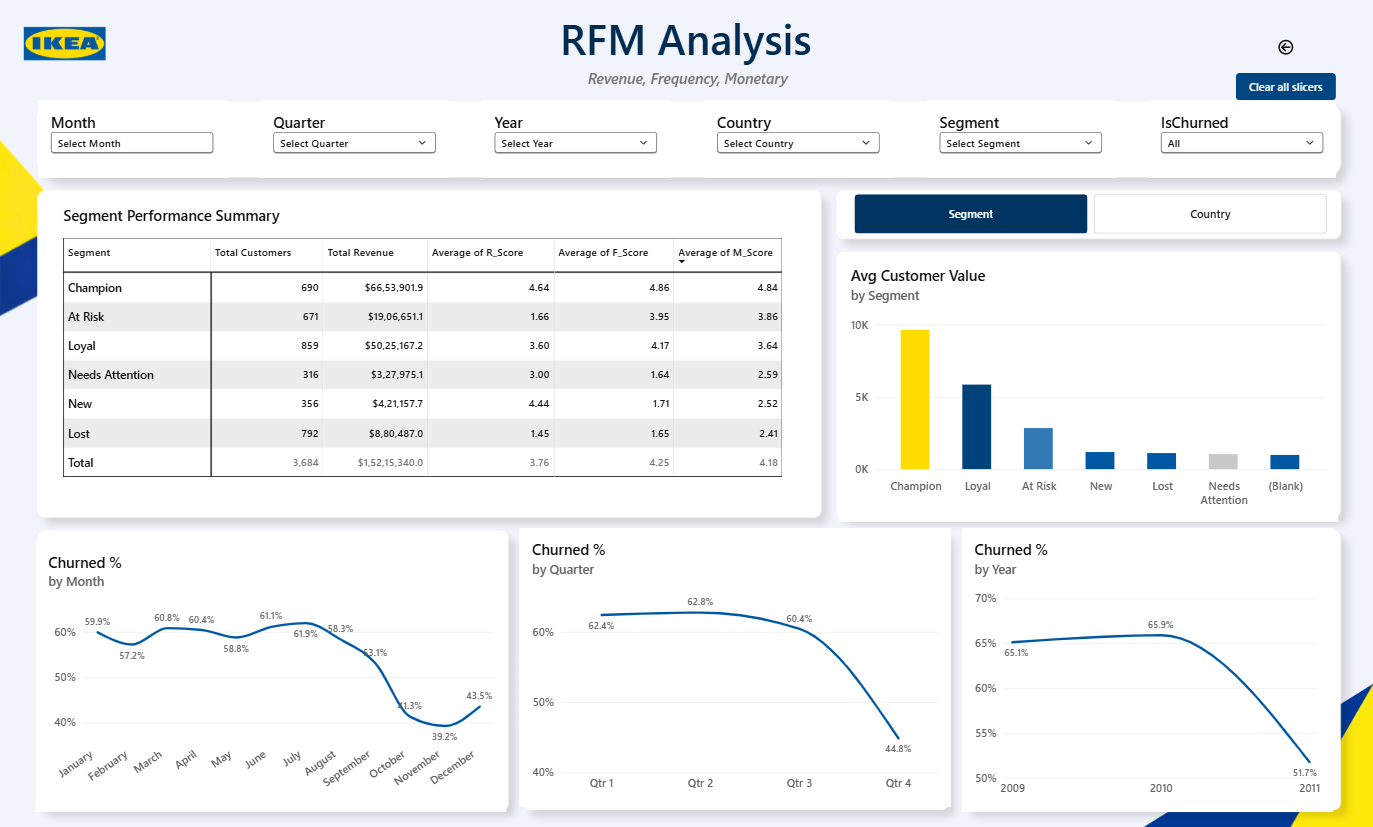

What the dashboard file says about the page in this screenshot:
{"tool":"powerbi","page":{"name":"RFM Analysis","canvas":[1750,1100],"ordinal":2},"visuals":[{"type":"listSlicer","fields":{"Values":["Sheet1.InvoiceDate.Variation.Date Hierarchy.Month"]},"box":[52.2,136.6,238.1,98.1],"z":0},{"type":"lineChart","fields":{"Category":["Sheet1.InvoiceMonth.Variation.Date Hierarchy.Month"],"Y":["Sheet1.Churned %"]},"box":[50,695,597.5,345],"z":0,"group":"g1"},{"type":"listSlicer","fields":{"Values":["Sheet1.InvoiceDate.Variation.Date Hierarchy.Quarter"]},"box":[334.4,136.6,238.1,98.1],"z":1000},{"type":"lineChart","fields":{"Category":["Sheet1.InvoiceMonth.Variation.Date Hierarchy.Quarter"],"Y":["Sheet1.Churned %"]},"box":[663.9,680.4,547.7,354.4],"z":1000,"group":"g1"},{"type":"listSlicer","fields":{"Values":["Sheet1.InvoiceDate.Variation.Date Hierarchy.Year"]},"box":[616.6,136.6,238.1,98.1],"z":2000},{"type":"columnChart","fields":{"Category":["Sheet1.Segment"],"Y":["Sheet1.Avg Customer Value"]},"box":[1070,332.5,635.4,340],"z":2000,"group":"g1"},{"type":"listSlicer","fields":{"Values":["Sheet1.Country"]},"box":[898.8,136.6,238.1,98.1],"z":3000},{"type":"lineChart","fields":{"Category":["Sheet1.InvoiceMonth.Variation.Date Hierarchy.Year"],"Y":["Sheet1.Churned %"]},"box":[1226.8,680.4,471.4,361.2],"z":3000,"group":"g1"},{"type":"listSlicer","fields":{"Values":["Sheet1.Segment"]},"box":[1180.9,136.6,238.1,98.1],"z":4000},{"type":"pivotTable","title":"Segment Performance Summary","fields":{"Rows":["Sheet1.Segment"],"Values":["Sheet1.Total Customers","Sheet1.Total Revenue","Avg(Sheet1.R_Score)","Avg(Sheet1.F_Score)","Avg(Sheet1.M_Score)"]},"box":[85,270,960,375],"z":4000,"group":"g1"},{"type":"listSlicer","fields":{"Values":["Sheet1.IsChurned"]},"box":[1463.1,136.6,238.1,98.1],"z":5000},{"type":"bookmarkNavigator","box":[1089.2,255.6,600,50],"z":6000},{"type":"image","box":[0,19.1,172.5,90],"z":8000},{"type":"textbox","box":[576.4,20.6,597,81],"z":9000},{"type":"actionButton","box":[1573.5,46,127,46],"z":10000},{"type":"actionButton","box":[1573.6,101.8,127.3,34.5],"z":11000},{"type":"textbox","box":[576.4,95.3,597,27],"z":12000},{"type":"group","id":"g1","title":"Segment","box":[50,270,1655.4,771.6],"z":14000}]}

Visuals, with their boxes on the page's 1750x1100 design canvas (x1, y1, x2, y2). These are canvas units, not pixel positions in the 1373x827 screenshot, which may show the page scaled, cropped or inside an application window:
listSlicer - Sheet1.InvoiceDate.Variation.Date Hierarchy.Month: rect(52, 137, 290, 235)
lineChart - Sheet1.InvoiceMonth.Variation.Date Hierarchy.Month x Sheet1.Churned %: rect(50, 695, 648, 1040)
listSlicer - Sheet1.InvoiceDate.Variation.Date Hierarchy.Quarter: rect(334, 137, 572, 235)
lineChart - Sheet1.InvoiceMonth.Variation.Date Hierarchy.Quarter x Sheet1.Churned %: rect(664, 680, 1212, 1035)
listSlicer - Sheet1.InvoiceDate.Variation.Date Hierarchy.Year: rect(617, 137, 855, 235)
columnChart - Sheet1.Segment x Sheet1.Avg Customer Value: rect(1070, 332, 1705, 672)
listSlicer - Sheet1.Country: rect(899, 137, 1137, 235)
lineChart - Sheet1.InvoiceMonth.Variation.Date Hierarchy.Year x Sheet1.Churned %: rect(1227, 680, 1698, 1042)
listSlicer - Sheet1.Segment: rect(1181, 137, 1419, 235)
"Segment Performance Summary" pivotTable: rect(85, 270, 1045, 645)
listSlicer - Sheet1.IsChurned: rect(1463, 137, 1701, 235)
bookmarkNavigator: rect(1089, 256, 1689, 306)
image: rect(0, 19, 172, 109)
textbox: rect(576, 21, 1173, 102)
actionButton: rect(1574, 46, 1700, 92)
actionButton: rect(1574, 102, 1701, 136)
textbox: rect(576, 95, 1173, 122)
"Segment" group: rect(50, 270, 1705, 1042)
